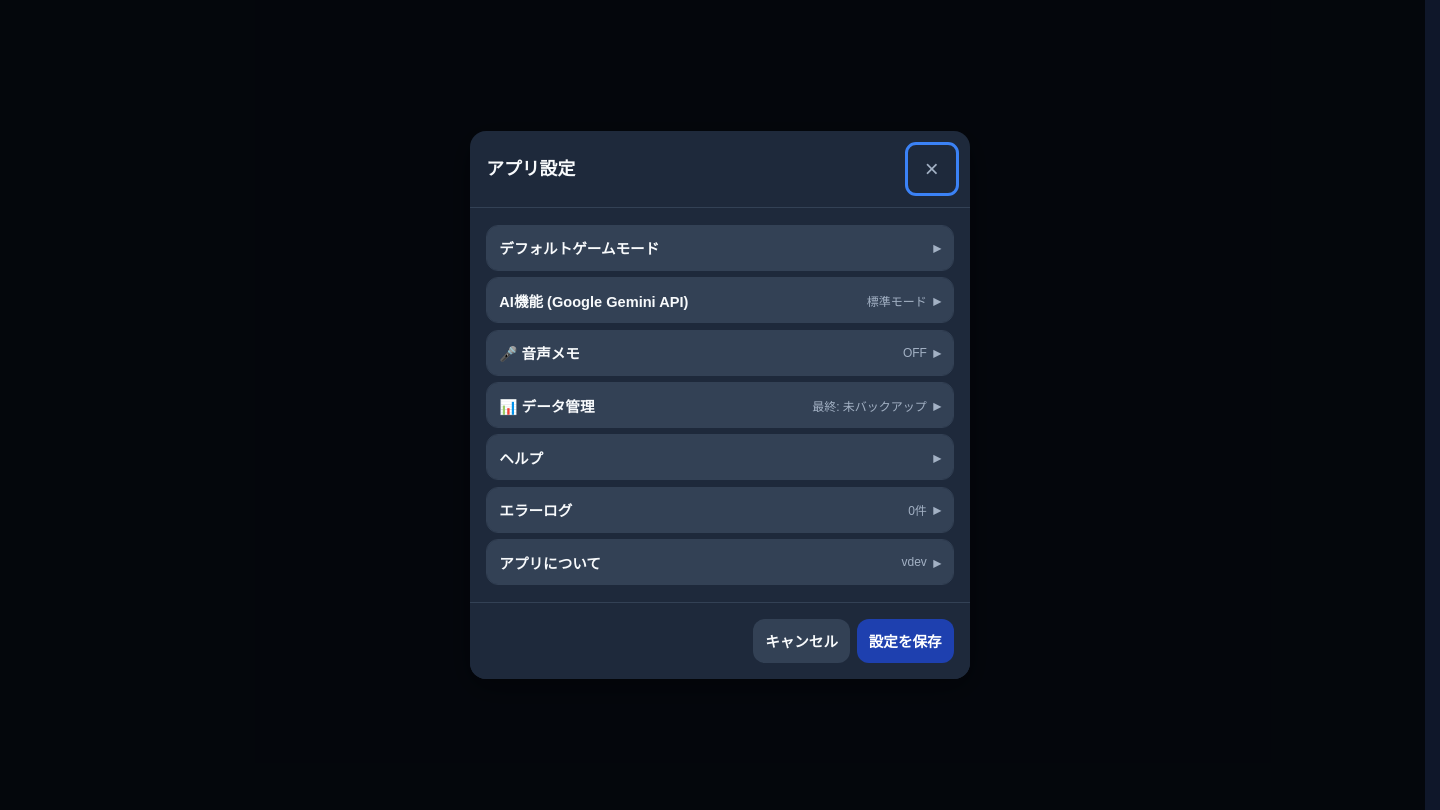
Scenario: 設定: AI写真読込 › APIキーがあっても、既定ではOFFになっている
Click the button "AI機能 (Google Gemini API) 標準モード ▸" at [594, 302], box [487,278,953,322]
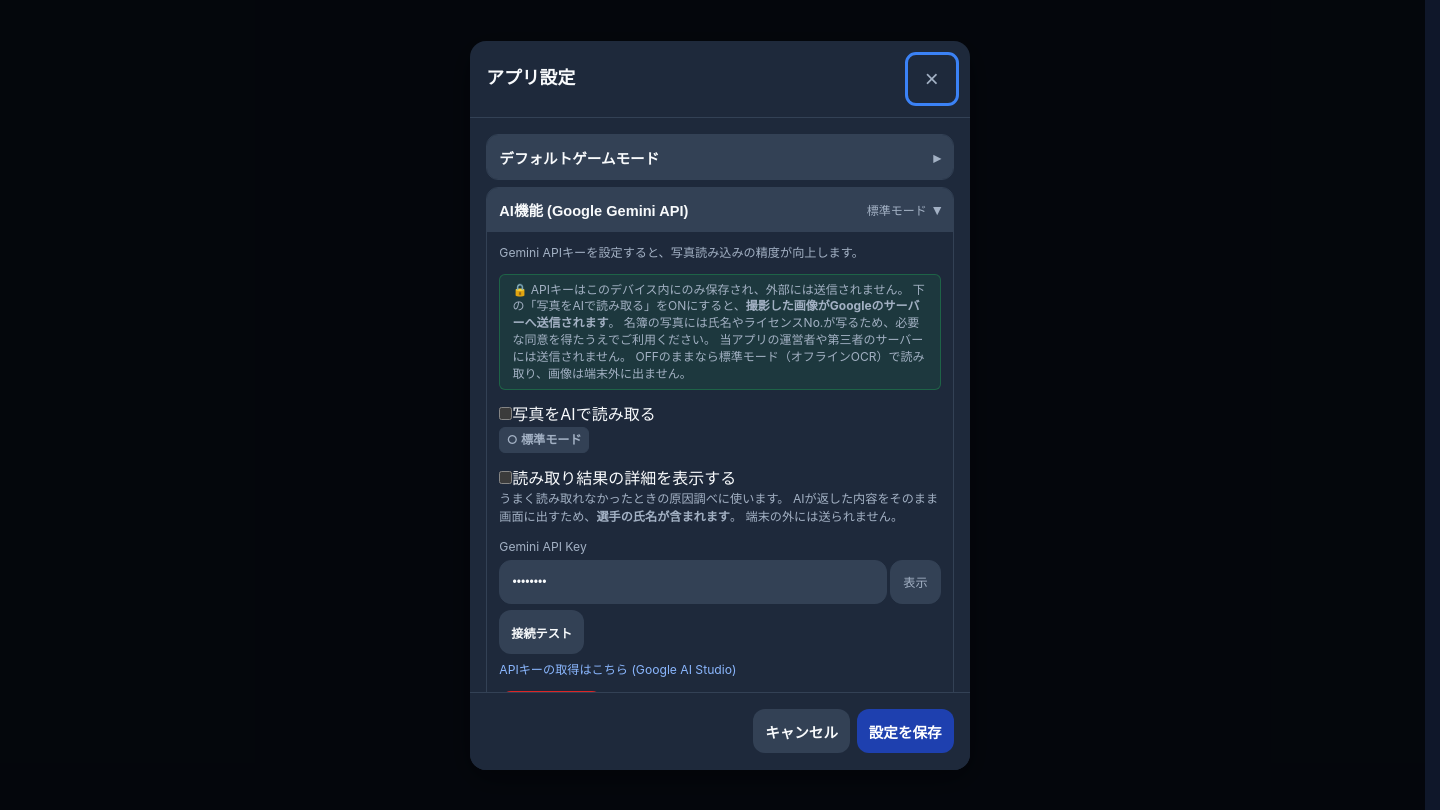
Expected: the checkbox labelled "写真をAIで読み取る" is not checked, [499,407,512,420]
